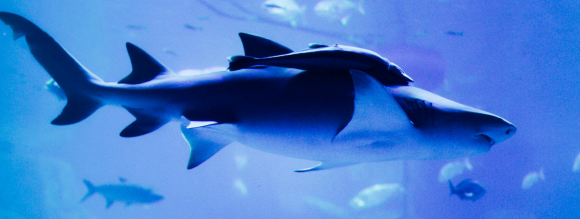fishLarge: (80, 176, 165, 210)
fishRound: (448, 176, 487, 205)
shark: (0, 10, 519, 173), (228, 41, 415, 87)
